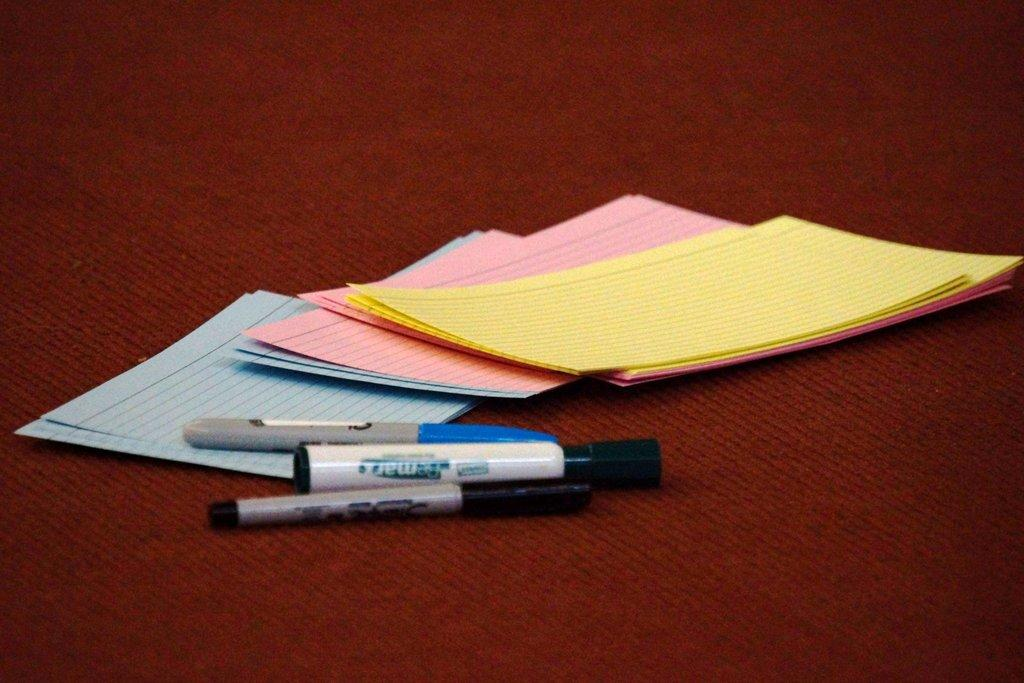pen: (295, 431, 666, 497), (202, 479, 606, 526), (185, 420, 576, 454)
